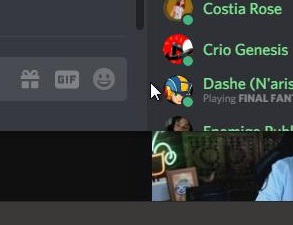cursor: (147, 79, 164, 105)
